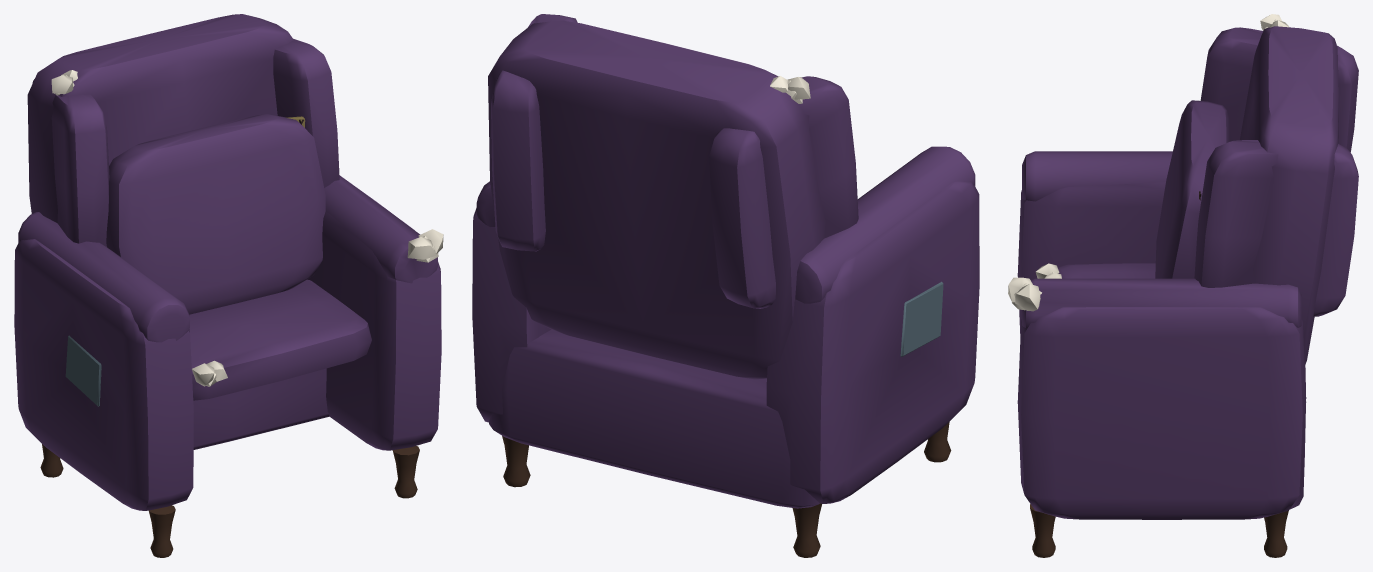
Rendered from armchair_tattered.glb.
The picture shows the model from 3 angles, left to right: view 1: azimuth 30°, elevation 25°; view 2: azimuth 150°, elevation 25°; view 3: azimuth 270°, elevation 25°; orthographic projection. The views are drawn at different scales.
Parts seen in each view (by area): view 1: armchair_tattered; view 2: armchair_tattered; view 3: armchair_tattered.
Boxes of the visible parts, x1,y1,x2,y2 form: armchair_tattered: (14, 14, 443, 557); armchair_tattered: (472, 14, 979, 557); armchair_tattered: (1008, 14, 1358, 557).
Bounding box in the file's own units: 0.8662 × 1.06 × 0.8028.
